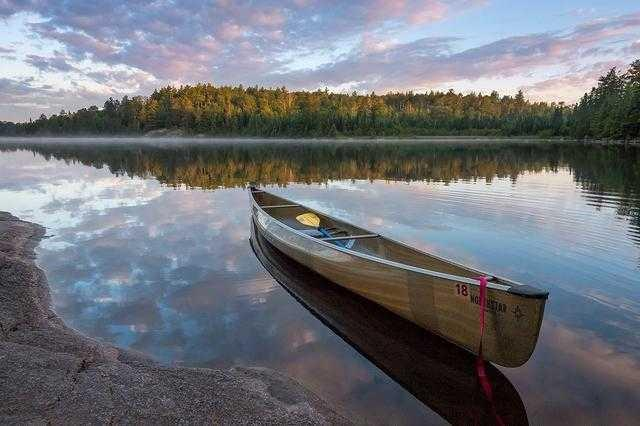kayak: (249, 186, 550, 369)
